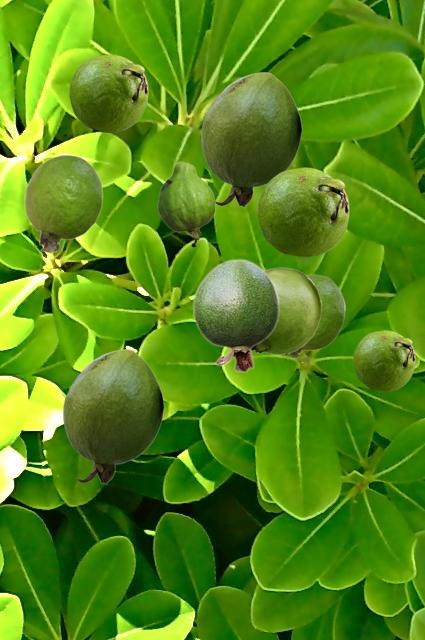guava: (63, 349, 163, 483), (201, 72, 301, 206), (192, 258, 279, 372), (257, 167, 348, 256), (24, 154, 102, 252), (69, 54, 147, 131), (253, 267, 320, 353), (283, 274, 344, 357), (157, 161, 214, 246), (353, 330, 414, 390)
